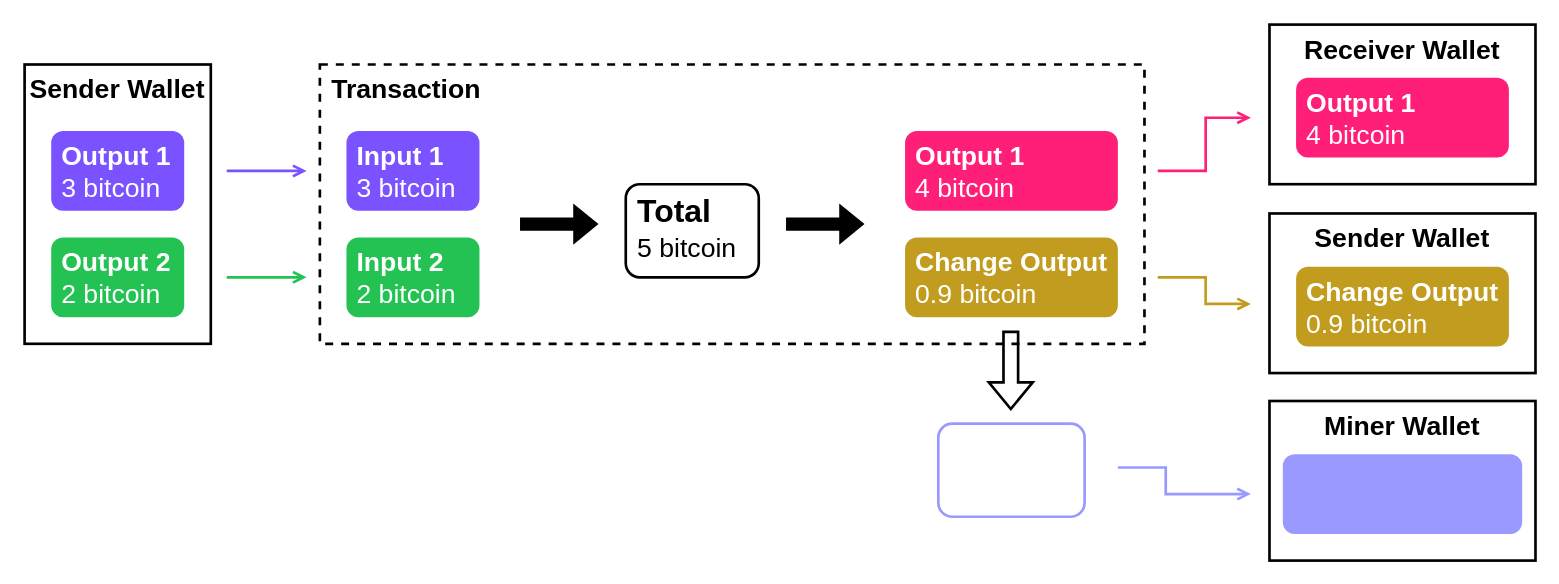
Image size: 1559x584. Some labels were removed from this diagram. Each missing label, with the centre of its shape:
"Coinbase Output 0.1 bitcoin + ..." goes at (1402,493).
"Fees 0.1 bitcoin" goes at (1010,469).
